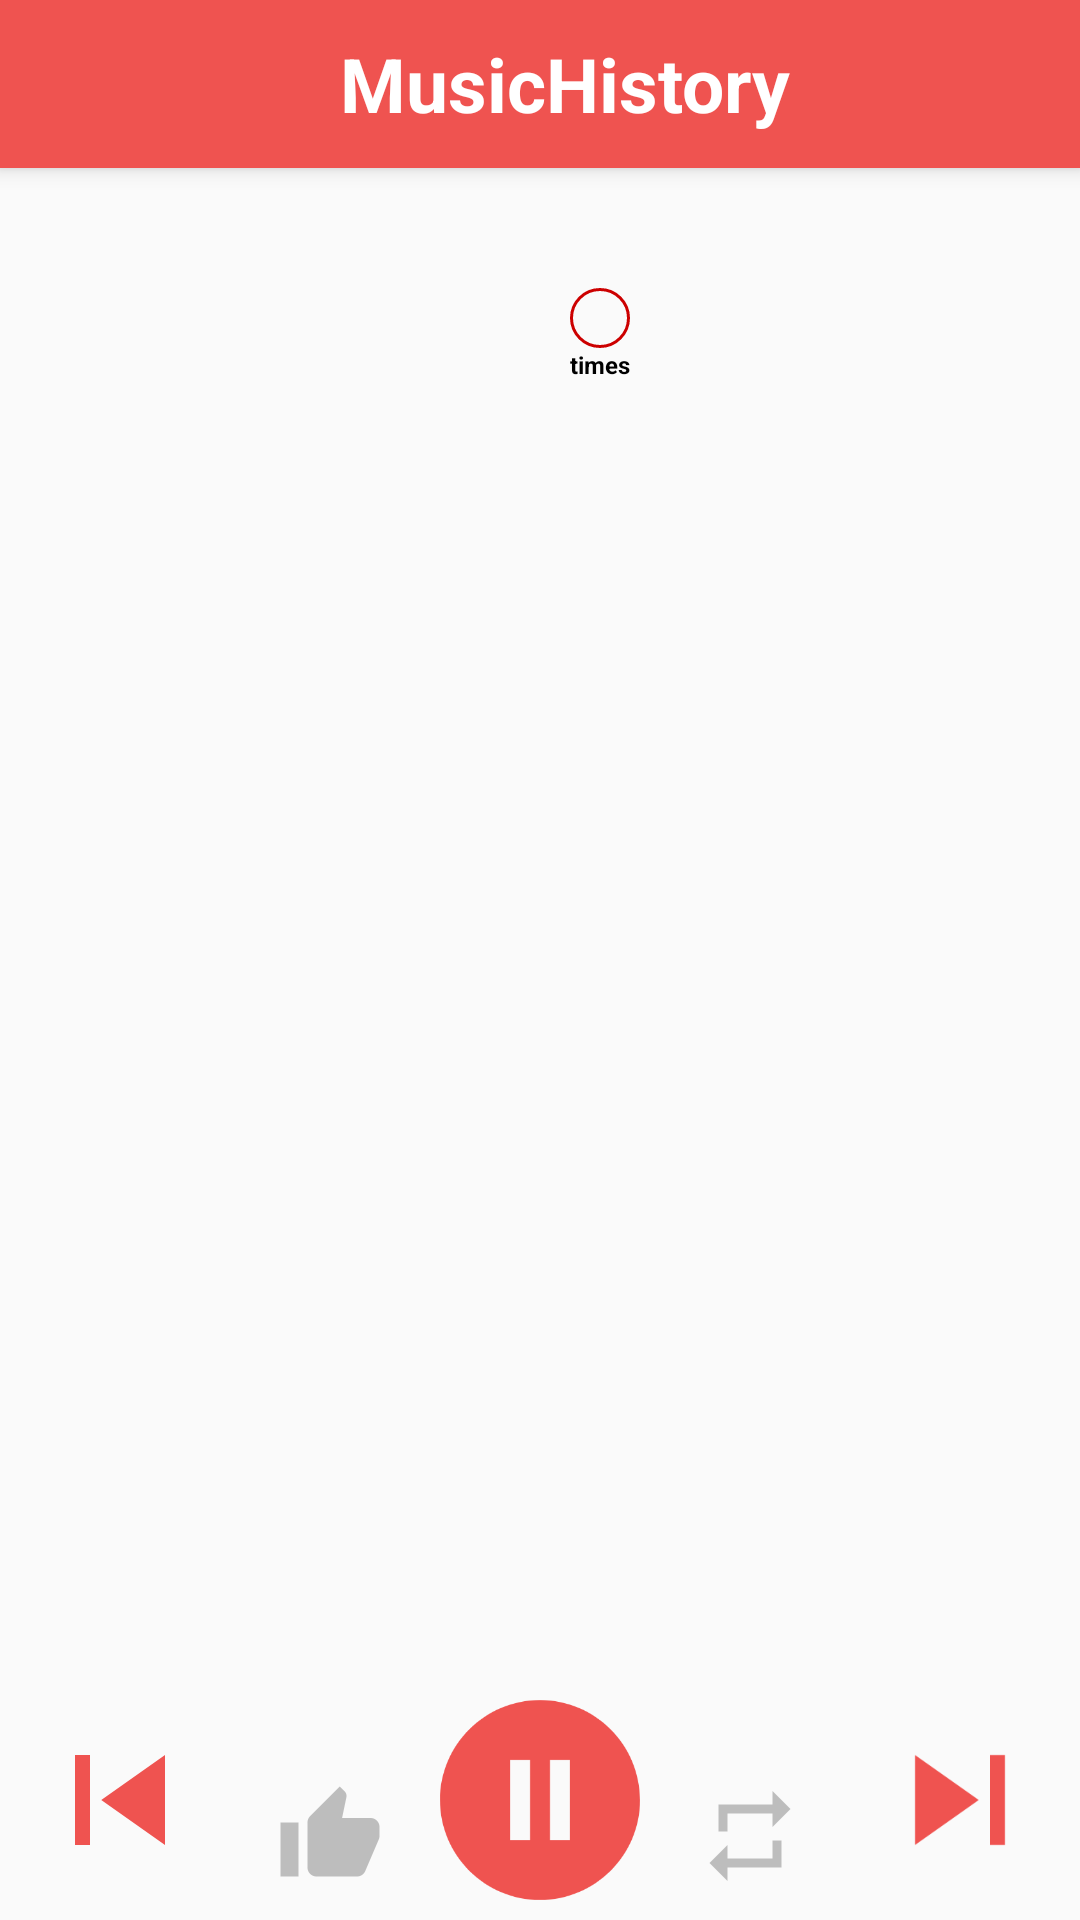

Icon bounding boxes for this 1080x1920 phone screenshot, format (x1=x1, y1=y1, x2=x2, y2=y2):
pause circle: (x1=440, y1=1700, x2=640, y2=1900)
repeat: (x1=710, y1=1792, x2=790, y2=1880)
skip next: (x1=915, y1=1755, x2=1005, y2=1845)
skip previous: (x1=75, y1=1755, x2=165, y2=1845)
thumb up: (x1=280, y1=1787, x2=380, y2=1877)
